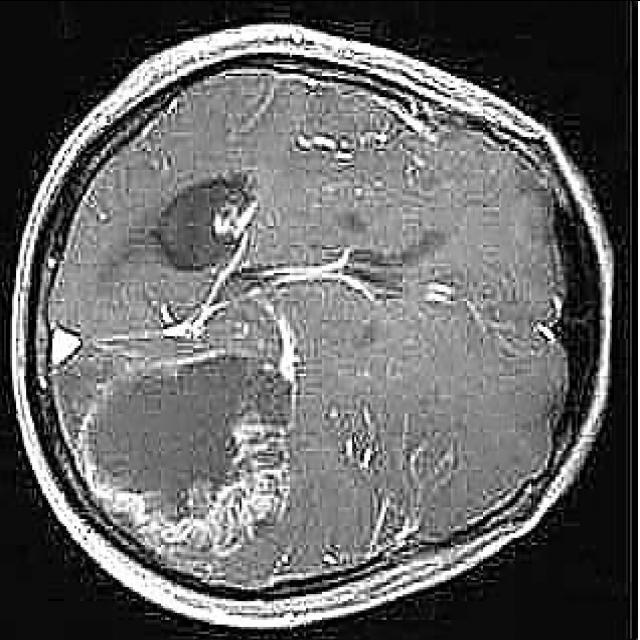tumor: (85, 356, 292, 549)
